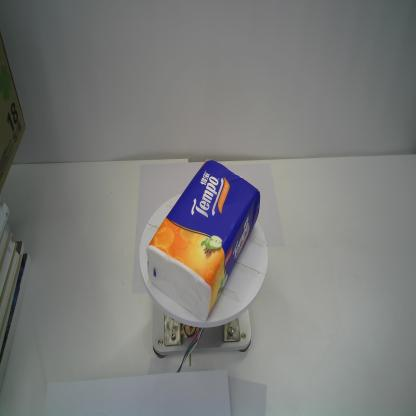Tissue: (145, 158, 262, 324)
